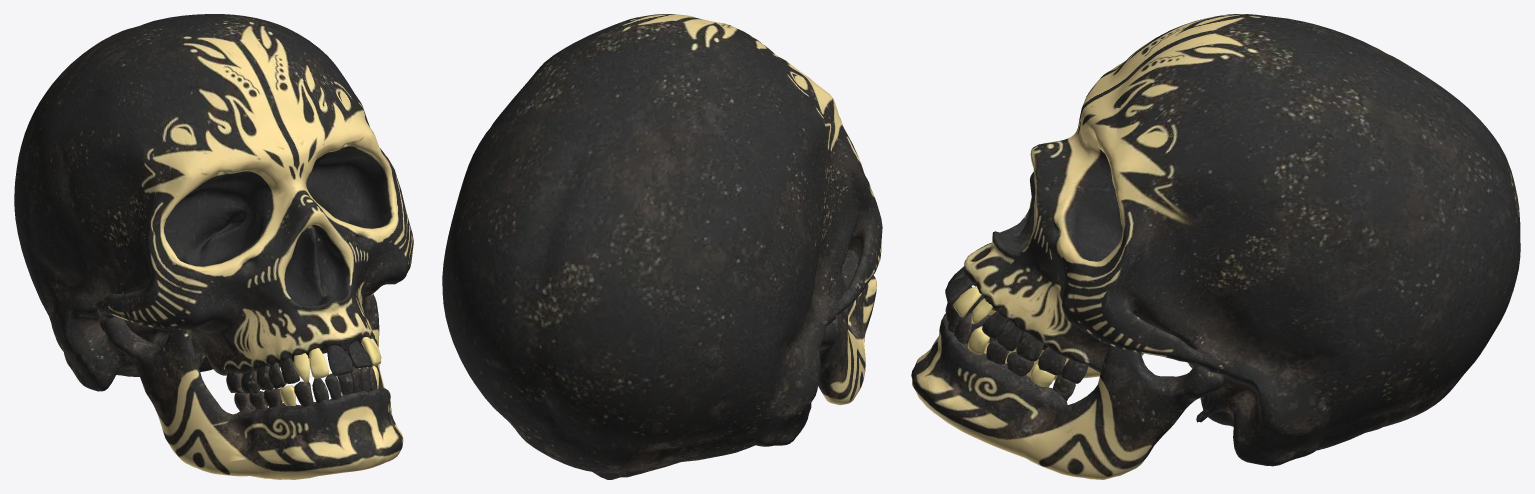
File: compressed_skull.glb
3 renders of one model, left to right at view 1: azimuth 30°, elevation 25°; view 2: azimuth 150°, elevation 25°; view 3: azimuth 270°, elevation 25°, orthographic. The views are drawn at different scales.
Parts seen in each view (by area): view 1: defaultMaterial (×2); view 2: defaultMaterial; view 3: defaultMaterial (×2).
Part boxes in pixels (left/top/right/bottom): defaultMaterial (×2): left=14, top=14, right=413, bottom=479; defaultMaterial: left=442, top=14, right=882, bottom=479; defaultMaterial (×2): left=911, top=14, right=1520, bottom=479.
Size of the model in its own units: 1.22 by 1.46 by 2.
2 materials, 1 textured.
